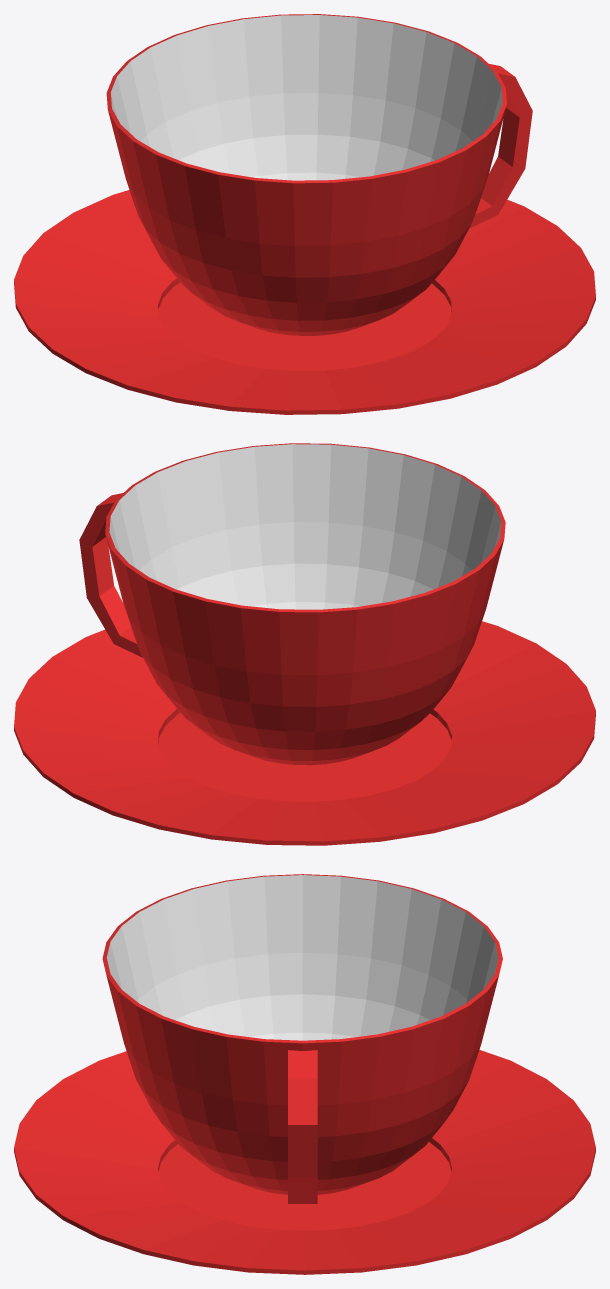
File: Teacup.gltf
3 views of the same model, one above another, from view 1: azimuth 30°, elevation 25°; view 2: azimuth 150°, elevation 25°; view 3: azimuth 270°, elevation 25° (orthographic).
Parts seen in each view (by area): view 1: node-0; view 2: node-0; view 3: node-0.
Part boxes in pixels (x1,y1,x2,y2): node-0: (14, 14, 595, 414); node-0: (14, 443, 595, 845); node-0: (14, 874, 595, 1274).
Size of the model in its own units: 926677 by 388613 by 926677.
